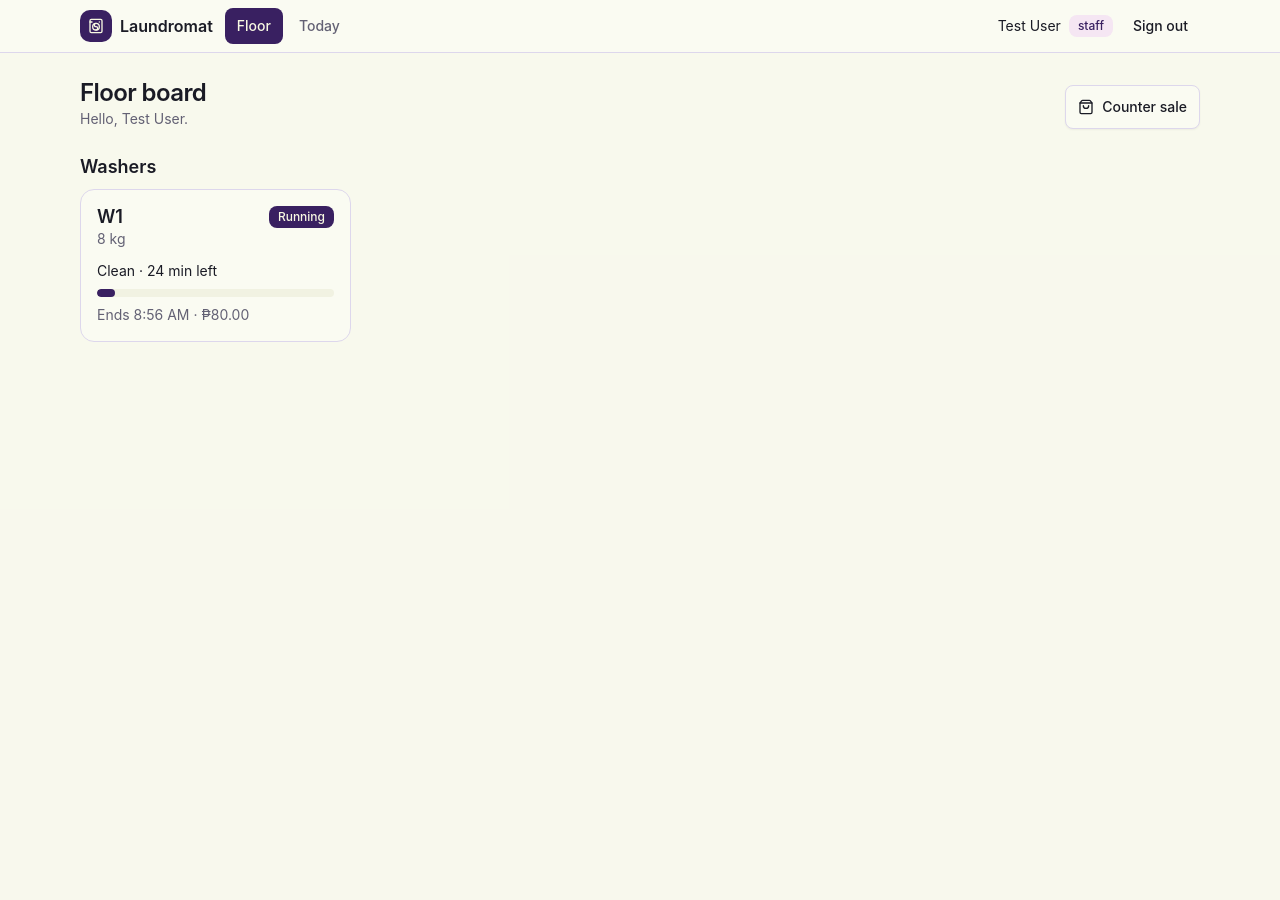
Test case: Halt › after the first minute it becomes a void that needs admin approval
What coordinates should you click on to do the following:
click the button with aria-label "Open ticket on W1"
I would click on:
 (216, 292)
Its box is [97, 260, 334, 324].
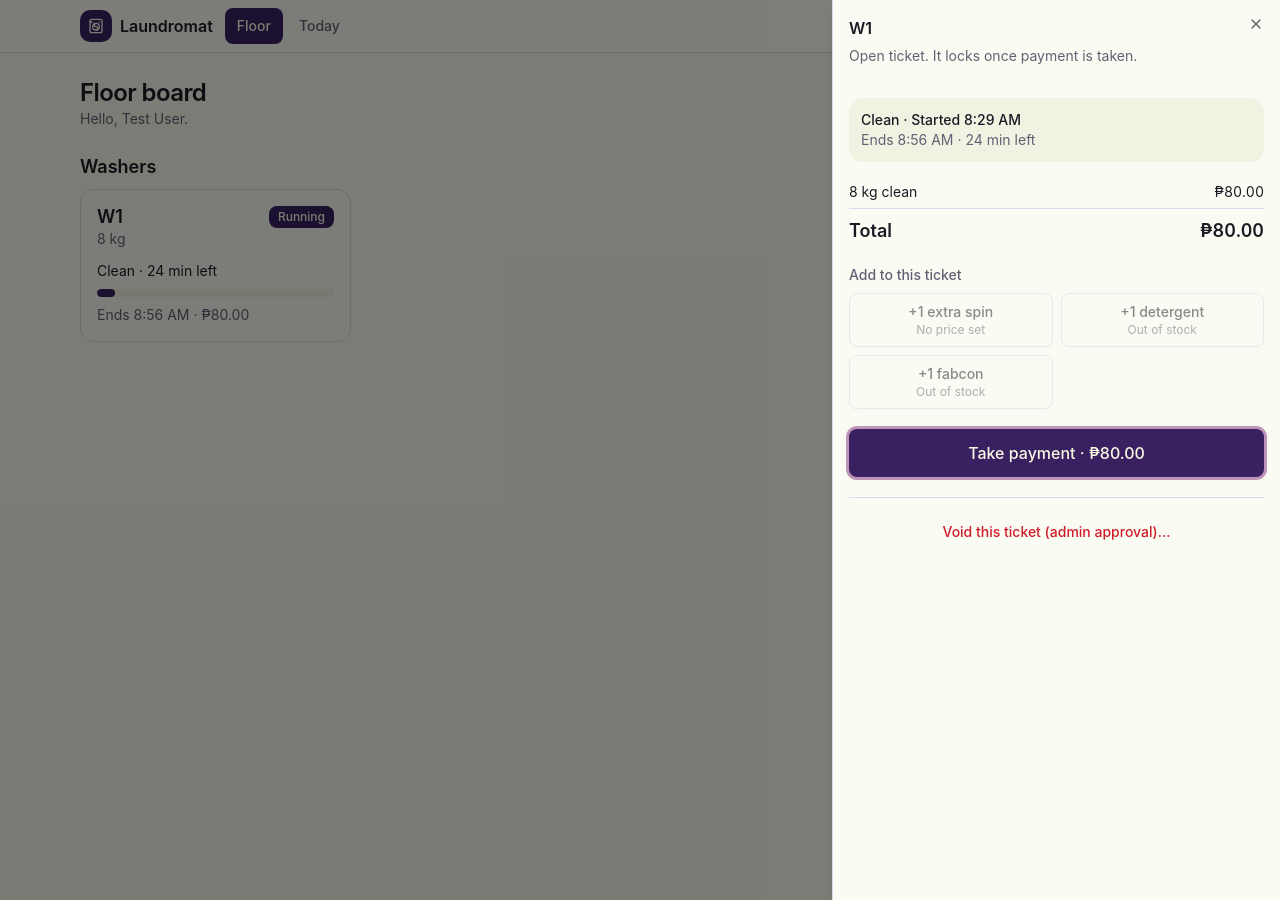
What coordinates should you click on to do the following:
click the button "Void this ticket (admin approval)…"
I would click on:
 (1056, 532)
Its box is [849, 514, 1264, 550].
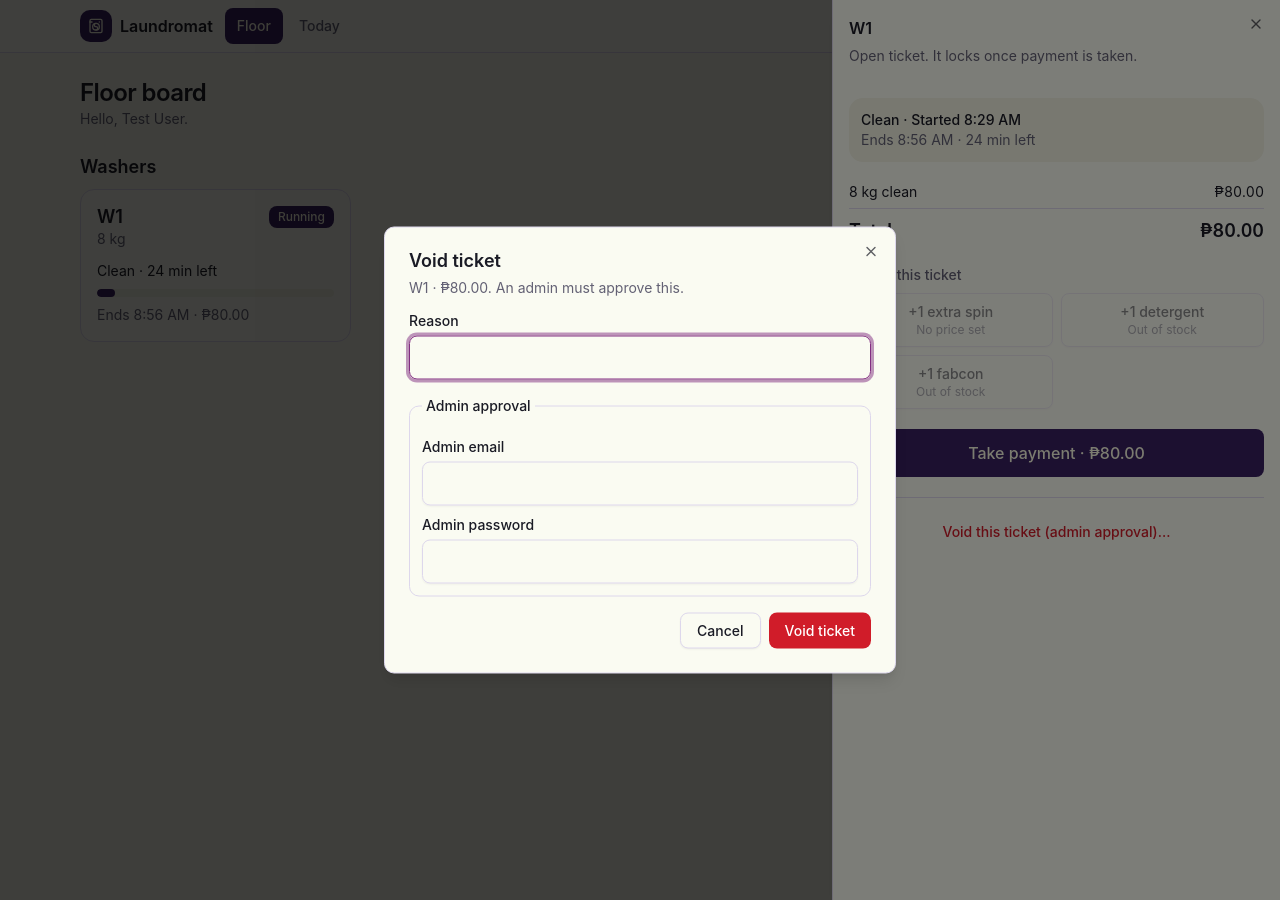
Now the password field labelled "Admin password" is shown, box [422, 540, 858, 584]
